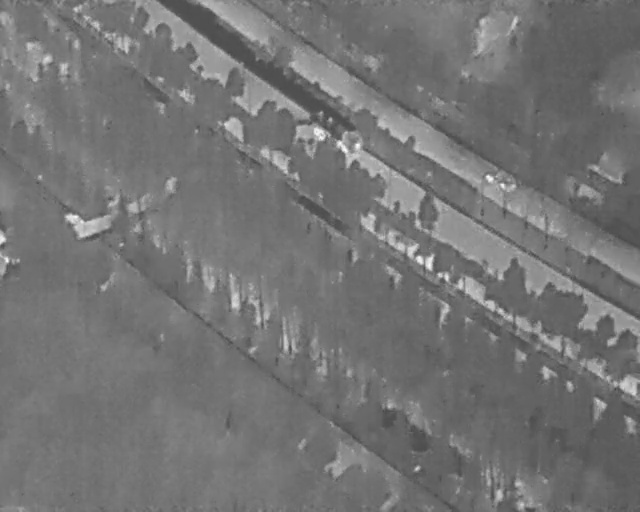Car: (479, 160, 522, 199)
OtherVehicle: (308, 105, 369, 160)
